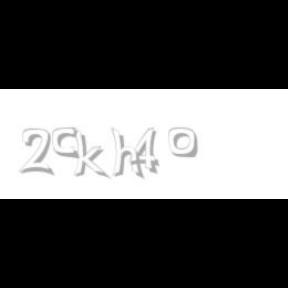2: (18, 128, 52, 176)
4: (128, 128, 160, 174)
c: (51, 128, 80, 160)
h: (110, 128, 145, 180)
k: (72, 128, 110, 180)
o: (168, 128, 198, 158)
